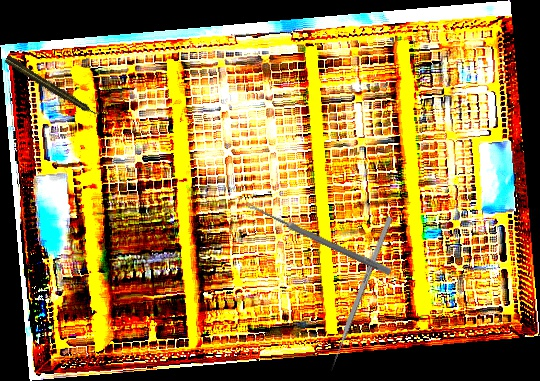Handpiece: (3, 54, 101, 120)
Pusher: (328, 215, 393, 373)
Surgical Spoon: (243, 200, 393, 276)
